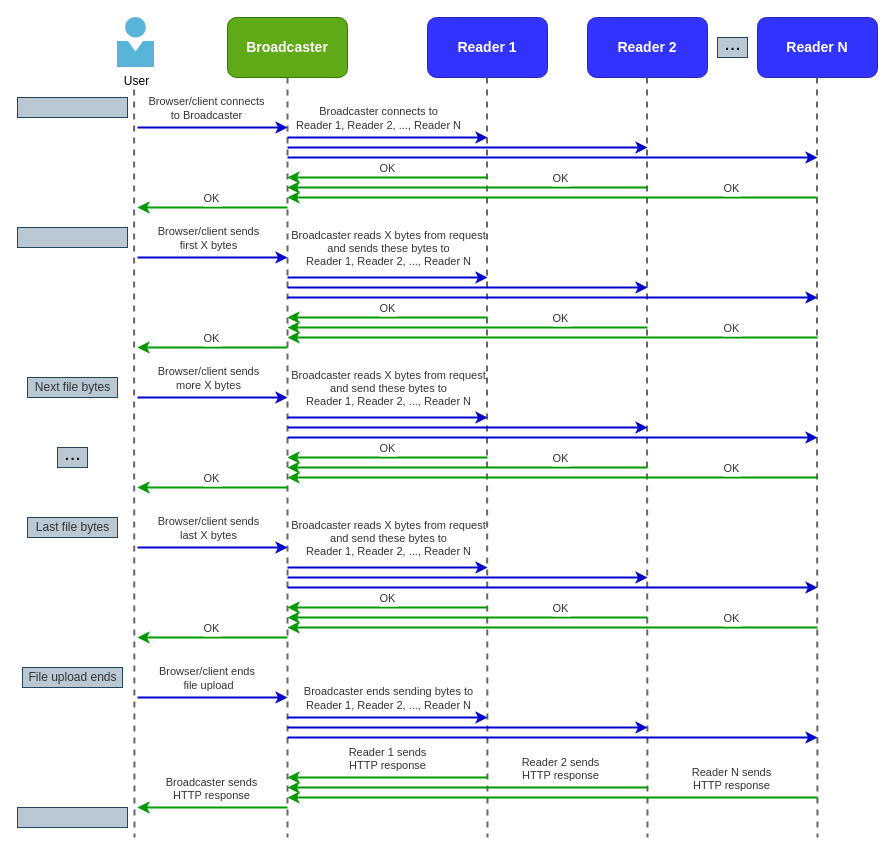
The diagram is 895 pixels wide and 857 high, and some of its shapes have lost their labels. The shapes that lost their labels are listed below. From the top down, each one's box as (x1, y1, x2, y2) in pixels, then its label:
(16, 96, 128, 118): Connection starts
(16, 226, 128, 248): File upload starts
(16, 806, 128, 828): Connection ends
